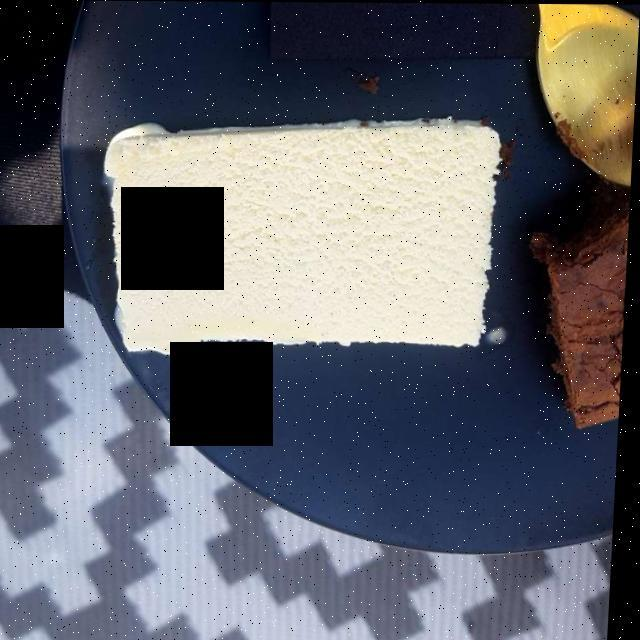ice-cream: (107, 125, 504, 353)
